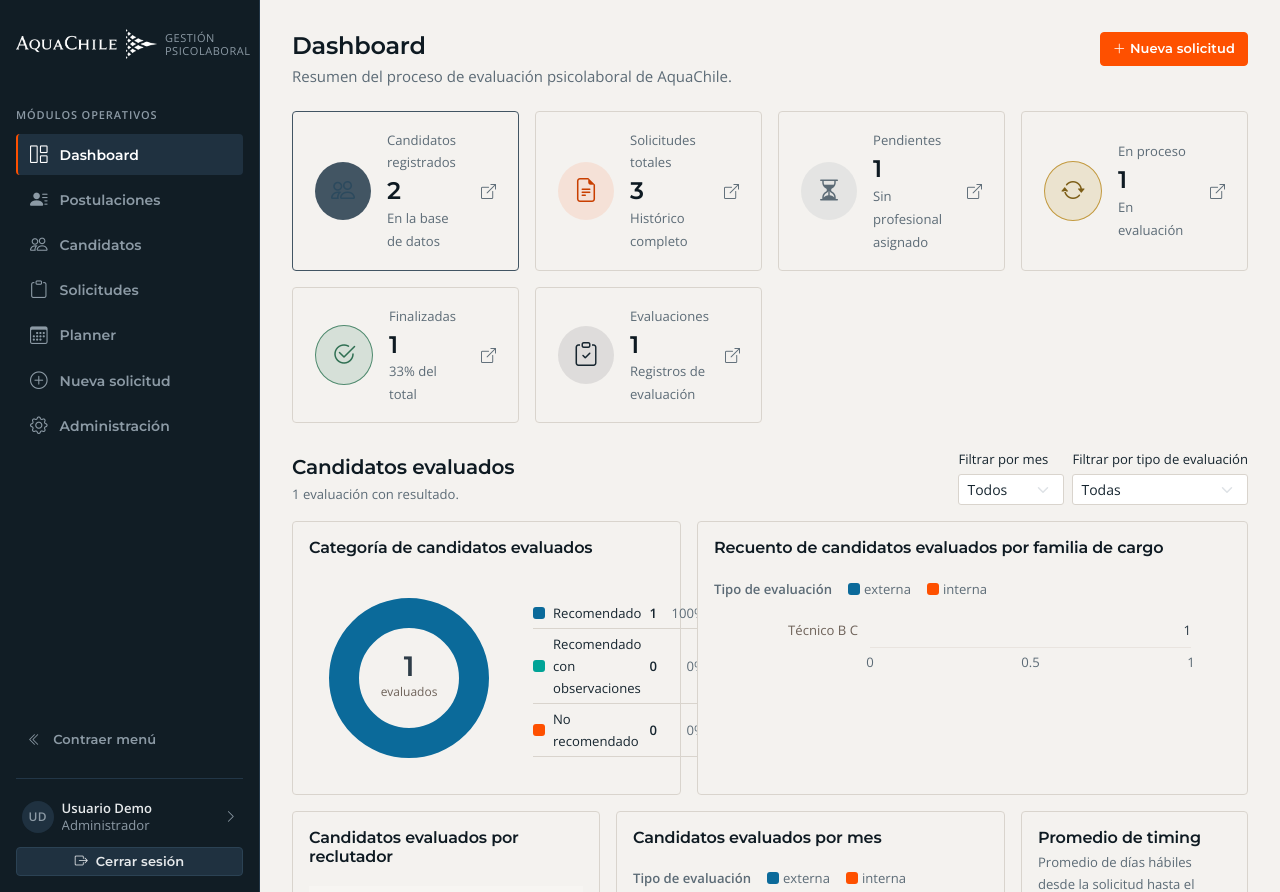
Test: App (enrutado) › navega entre el dashboard y el listado de solicitudes
Click the link "Solicitudes" at [84, 290], box [30,279,139,301]
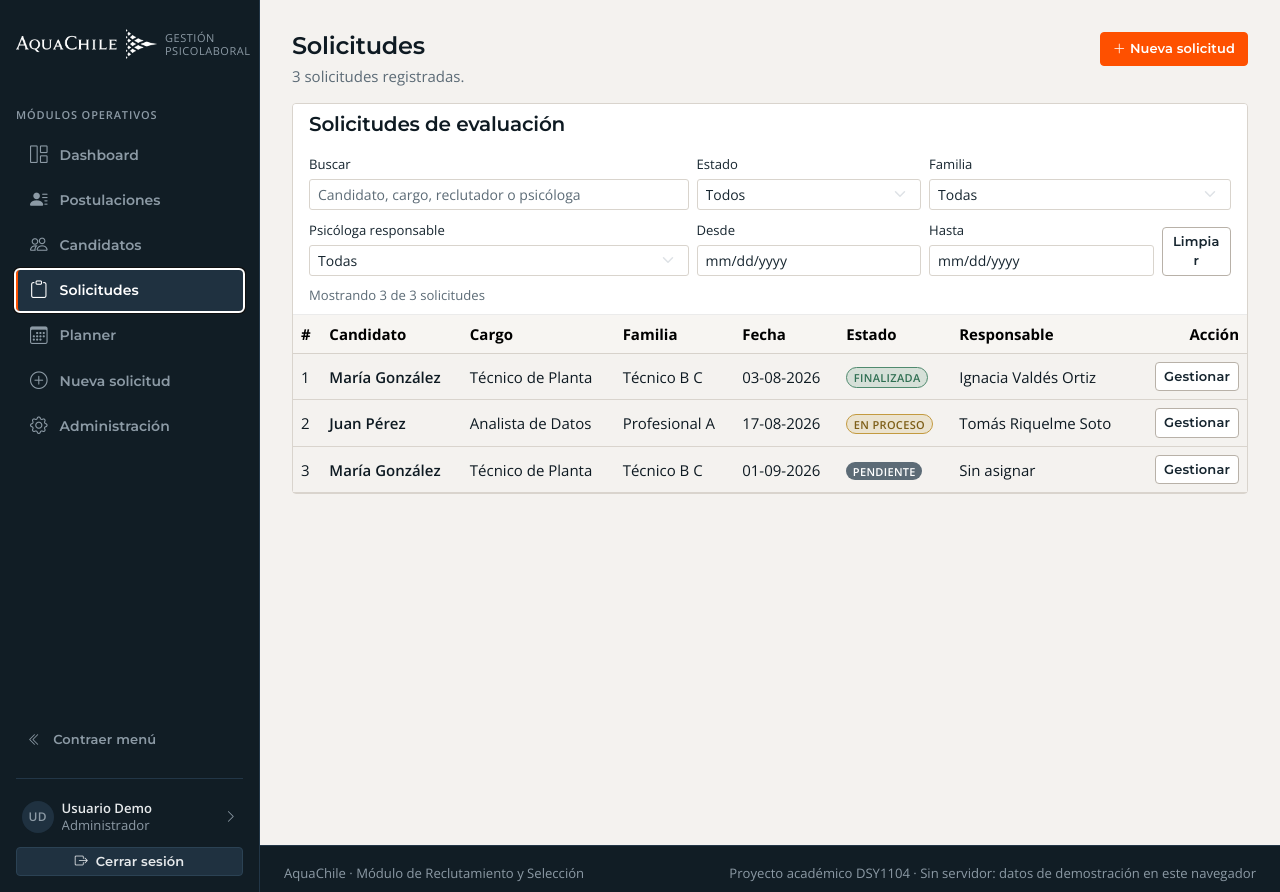
Expected: the heading "Solicitudes" is shown, [292,31,425,60]
